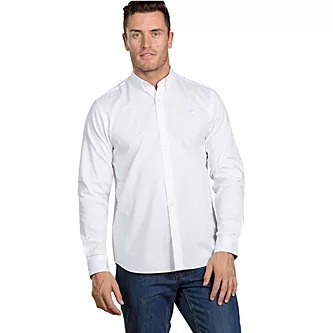S_shirt: (78, 69, 243, 275)
